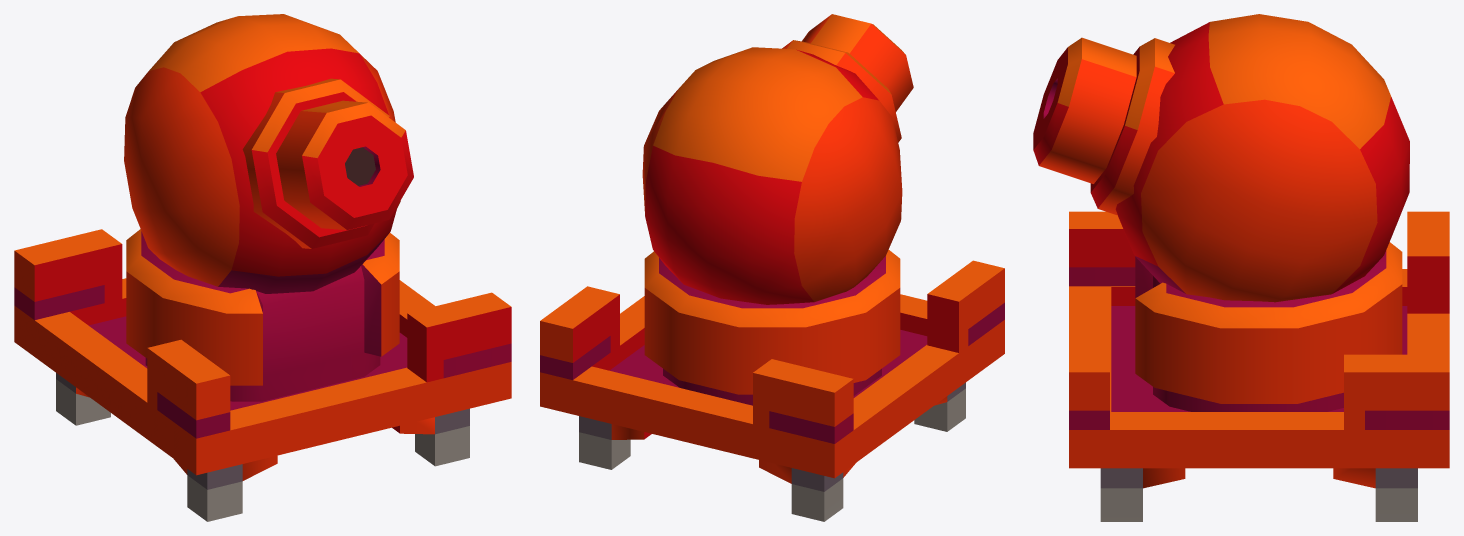
File: PipeRunnerMesh.OrangeStar.glb
3 renders of one model, left to right at view 1: azimuth 30°, elevation 25°; view 2: azimuth 150°, elevation 25°; view 3: azimuth 270°, elevation 25°, orthographic. The views are drawn at different scales.
Visible parts, largest first — view 1: PipeRunnerMesh.OrangeStar; view 2: PipeRunnerMesh.OrangeStar; view 3: PipeRunnerMesh.OrangeStar.
Part boxes in pixels (box(x1,y1,x2,y2)): PipeRunnerMesh.OrangeStar: box(14, 14, 511, 521); PipeRunnerMesh.OrangeStar: box(540, 14, 1004, 521); PipeRunnerMesh.OrangeStar: box(1033, 14, 1449, 521).
Bounding box in the file's own units: 1.8 × 2.23 × 1.97.
1 material, 1 textured.
